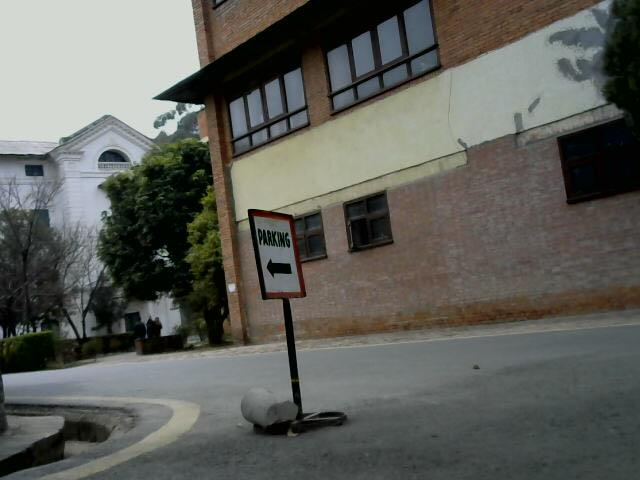Building: (202, 0, 634, 303)
Road: (16, 335, 640, 480)
Traffic sign: (233, 206, 360, 441)
Tree: (100, 131, 234, 361), (0, 174, 89, 361)
